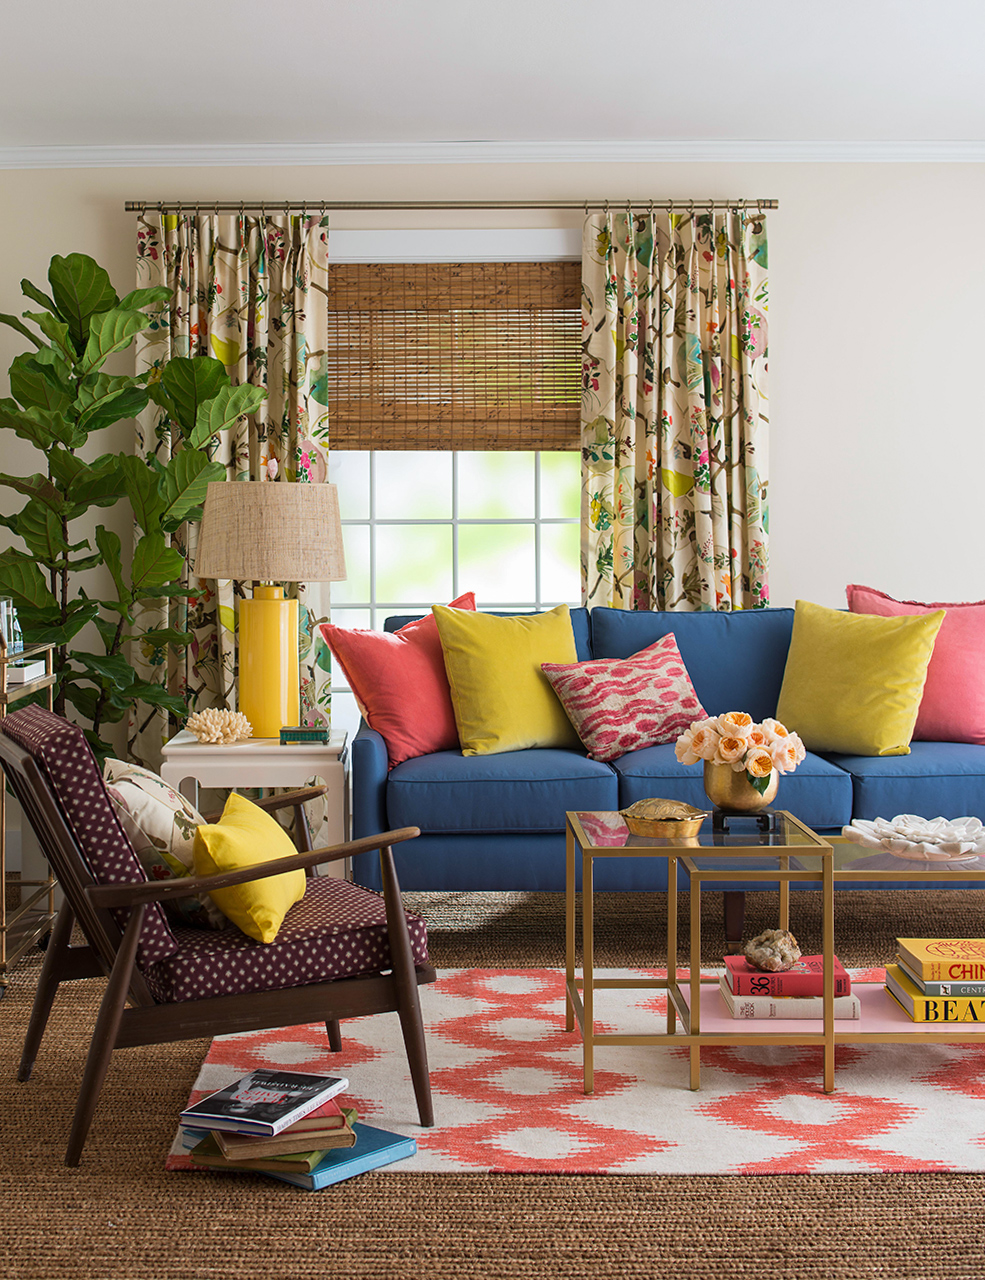biru: (357, 739, 560, 888), (597, 611, 779, 725)
kuning: (795, 606, 912, 756), (444, 614, 574, 743), (206, 800, 302, 934), (238, 596, 299, 734)
pink: (335, 625, 446, 758), (921, 606, 985, 738)
